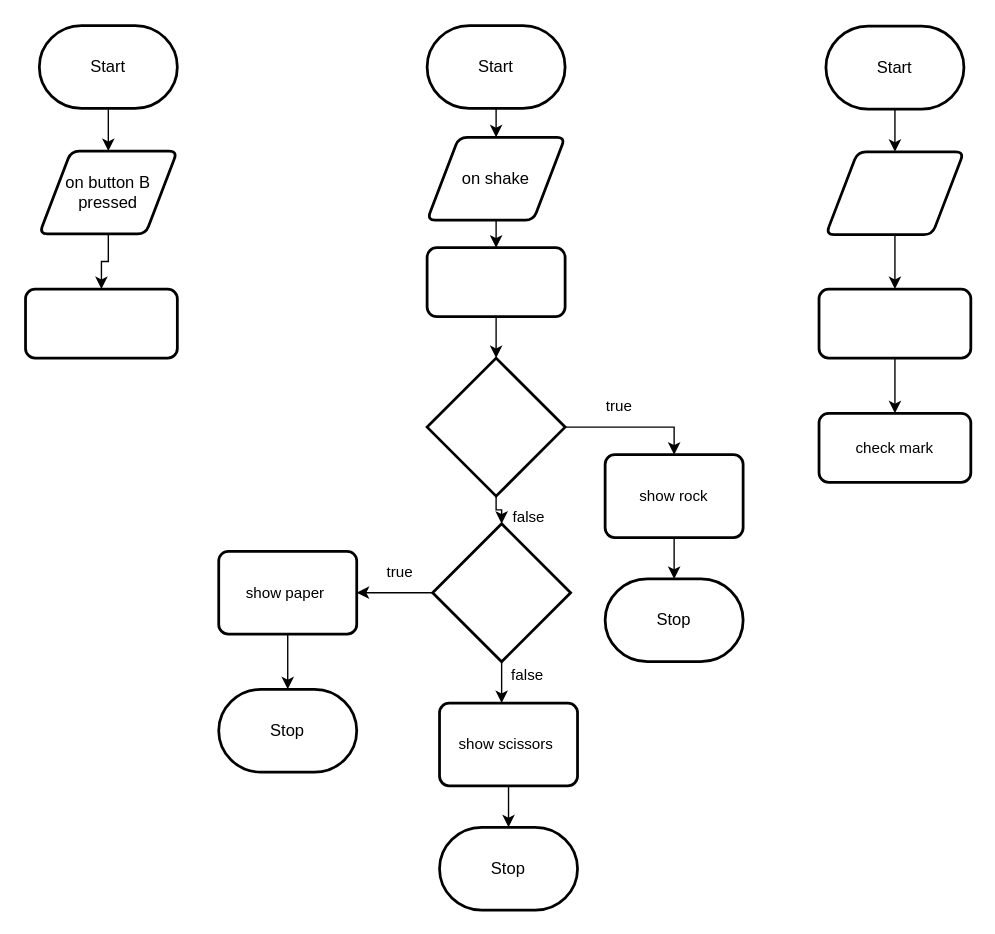
The diagram is 995 pixels wide and 934 high, and some of its shapes have lost their labels. The shapes that lost their labels are listed below. From the top down, each one's centre as x and y in pixels, then its label:
point (894, 192): on button A pressed
point (495, 281): generate number 0-2
point (100, 323): show score
point (894, 323): add 1 to score
point (495, 426): number == 0
point (501, 592): number == 1
